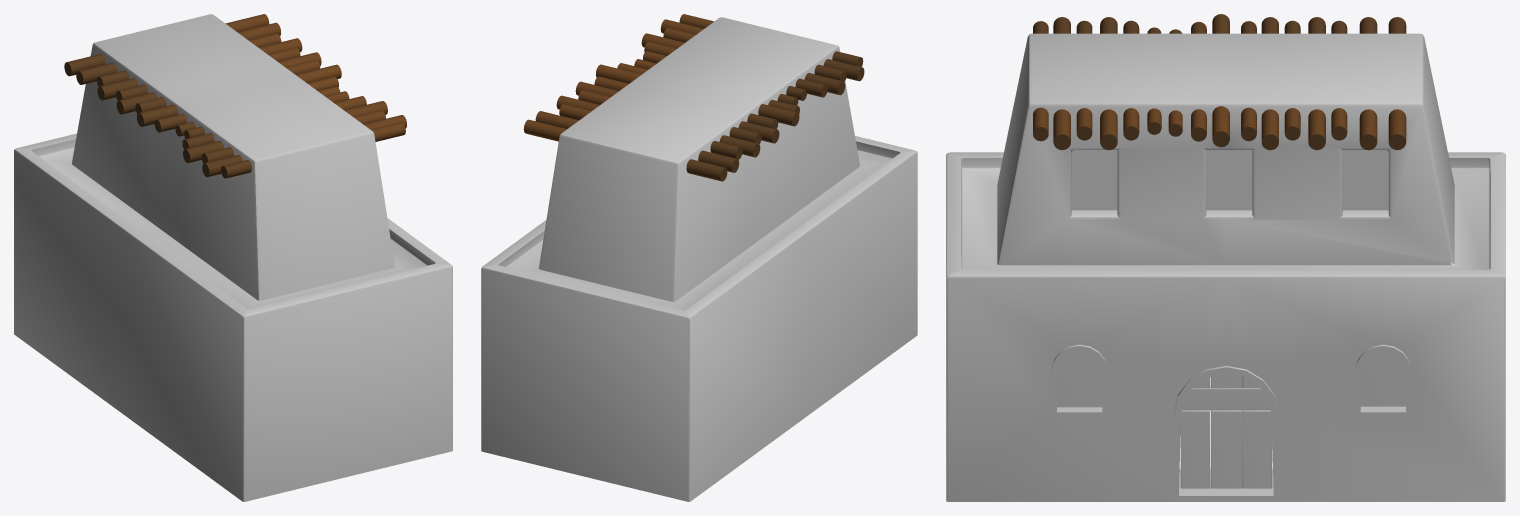
3 renders of one model, left to right at view 1: azimuth 30°, elevation 25°; view 2: azimuth 150°, elevation 25°; view 3: azimuth 270°, elevation 25°, orthographic. The views are drawn at different scales.
Parts seen in each view (by area): view 1: Uy.004; view 2: Uy.004; view 3: Uy.004, Eshik.010, Eshik.012, Eshik.011.
Boxes of the visible parts, <box> form: Uy.004: <box>14,14,452,501</box>; Uy.004: <box>481,14,917,501</box>; Uy.004: <box>946,14,1505,501</box>; Eshik.010: <box>1180,373,1272,488</box>; Eshik.012: <box>1057,352,1101,407</box>; Eshik.011: <box>1361,352,1405,406</box>.
Size of the model in its own units: 240 by 329 by 450.
